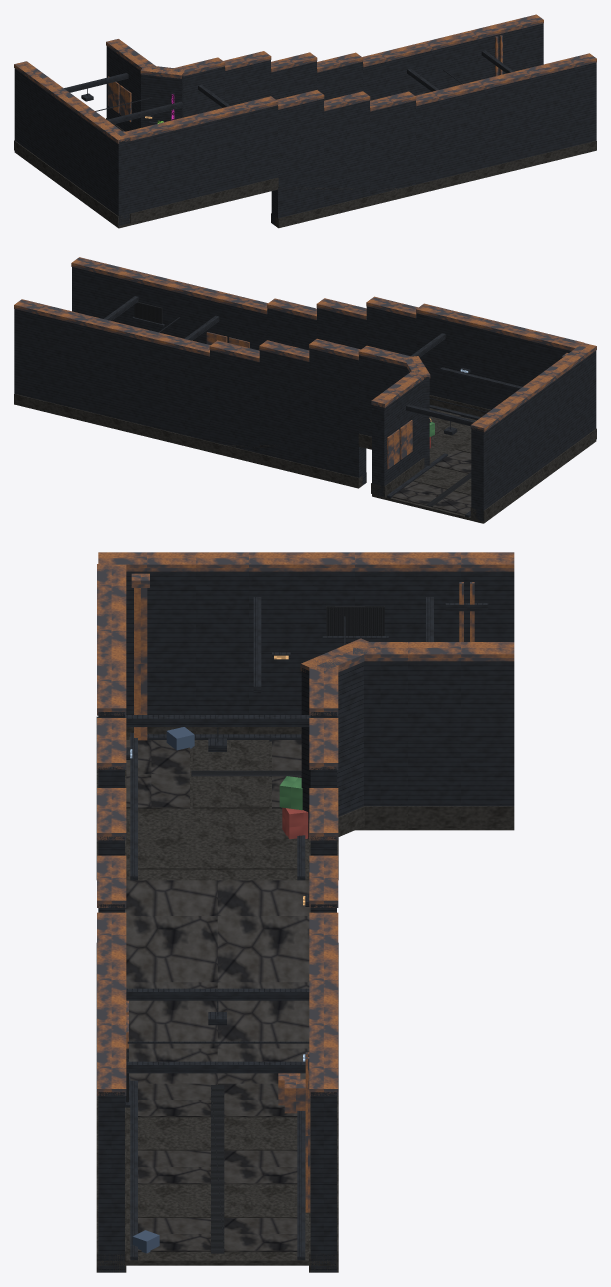
File: Hesperus_AlleyCorner_PlazaJunction.glb
The picture shows the model from 3 angles, top to bottom: view 1: azimuth 30°, elevation 25°; view 2: azimuth 150°, elevation 25°; view 3: azimuth 270°, elevation 25°; orthographic projection. The views are drawn at different scales.
Visible parts, largest first — view 1: AC_Wall_RS0, AC_Wall_RS1, AC_Wall_US2, AC_Wall_RS2, AC_Wall_LS2, AC_Wall_LS0, AC_Wall_LS1, AC_Wall_LS3, AC_Wall_US0, AC_Wall_US1, AC_Wall_EW3, AC_Wall_EW2 (+53 smaller); view 2: AC_Wall_RN0, AC_Wall_RN1, AC_Wall_RN2, AC_Wall_LN2, AC_Wall_LN1, AC_Wall_LN0, AC_Wall_US2, AC_Wall_LN3, AC_Wall_EW0, AC_Wall_US1, AC_Wall_EE0, AC_Wall_EW1 (+56 smaller); view 3: AC_Ramp, AC_Wall_EE0, AC_Wall_EW2, AC_Wall_EW3, AC_Wall_EW0, AC_Wall_EE1, AC_Wall_EW1, AC_Plate_B0, AC_Plate_L2, AC_Wall_CHAMFER, AC_Plate_L1, AC_Plate_L3 (+46 smaller).
Part boxes in pixels (<box>): AC_Wall_RS0: <box>271,99,323,225</box>; AC_Wall_RS1: <box>324,100,369,206</box>; AC_Wall_US2: <box>222,105,277,191</box>; AC_Wall_RS2: <box>370,100,415,195</box>; AC_Wall_LS2: <box>507,73,553,162</box>; AC_Wall_LS0: <box>416,95,461,184</box>; AC_Wall_LS1: <box>462,84,507,173</box>; AC_Wall_LS3: <box>553,62,596,150</box>; AC_Wall_US0: <box>130,130,175,213</box>; AC_Wall_US1: <box>176,119,221,202</box>; AC_Wall_EW3: <box>94,127,129,225</box>; AC_Wall_EW2: <box>67,107,94,198</box>; AC_Wall_RN0: <box>309,348,366,484</box>; AC_Wall_RN1: <box>259,350,309,465</box>; AC_Wall_RN2: <box>210,350,259,453</box>; AC_Wall_LN2: <box>60,320,110,416</box>; AC_Wall_LN1: <box>110,332,160,428</box>; AC_Wall_LN0: <box>160,344,209,441</box>; AC_Wall_US2: <box>416,313,477,406</box>; AC_Wall_LN3: <box>14,309,60,404</box>; AC_Wall_EW0: <box>471,412,512,520</box>; AC_Wall_US1: <box>477,328,526,409</box>; AC_Wall_EE0: <box>372,388,412,496</box>; AC_Wall_EW1: <box>512,391,540,489</box>; AC_Ramp: <box>125,880,310,1083</box>; AC_Wall_EE0: <box>408,661,514,806</box>; AC_Wall_EW2: <box>196,571,301,714</box>; AC_Wall_EW3: <box>126,571,195,714</box>; AC_Wall_EW0: <box>408,571,514,641</box>; AC_Wall_EE1: <box>364,661,407,806</box>; AC_Wall_EW1: <box>302,571,407,662</box>; AC_Plate_B0: <box>138,835,297,869</box>; AC_Plate_L2: <box>138,1150,297,1184</box>; AC_Wall_CHAMFER: <box>301,662,363,838</box>; AC_Plate_L1: <box>138,1117,297,1150</box>; AC_Plate_L3: <box>138,1184,297,1217</box>.
Bounding box in the file's own units: 41.68 × 10.55 × 15.74.
Materials: 12 (11 with a texture image).
